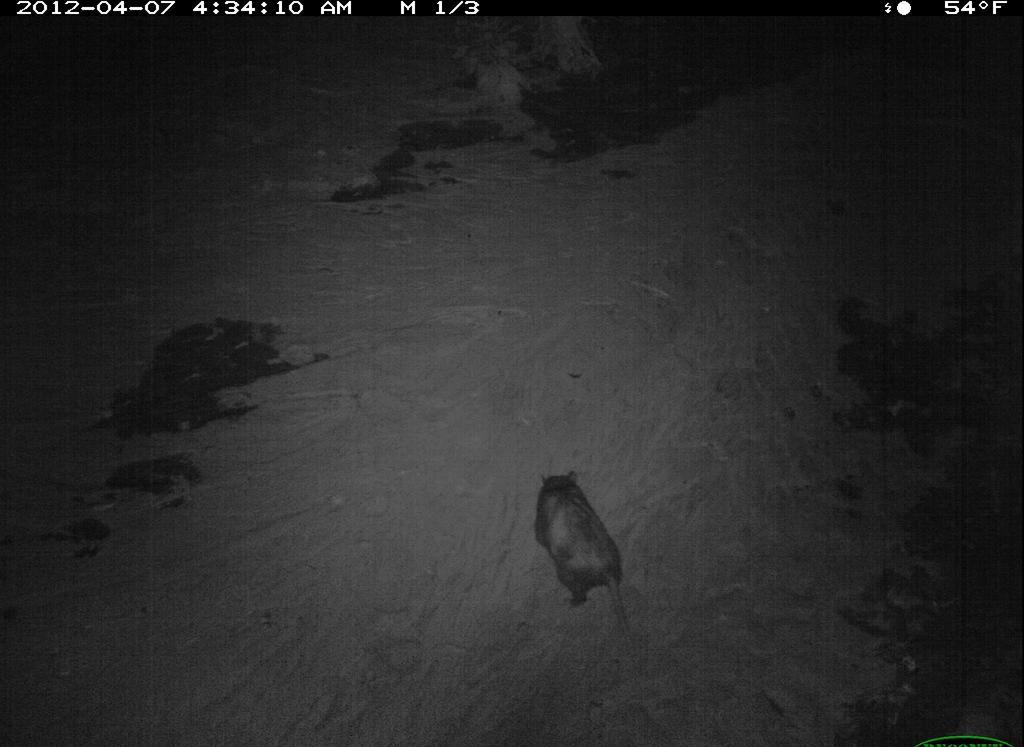opossum: (491, 410, 658, 653)
